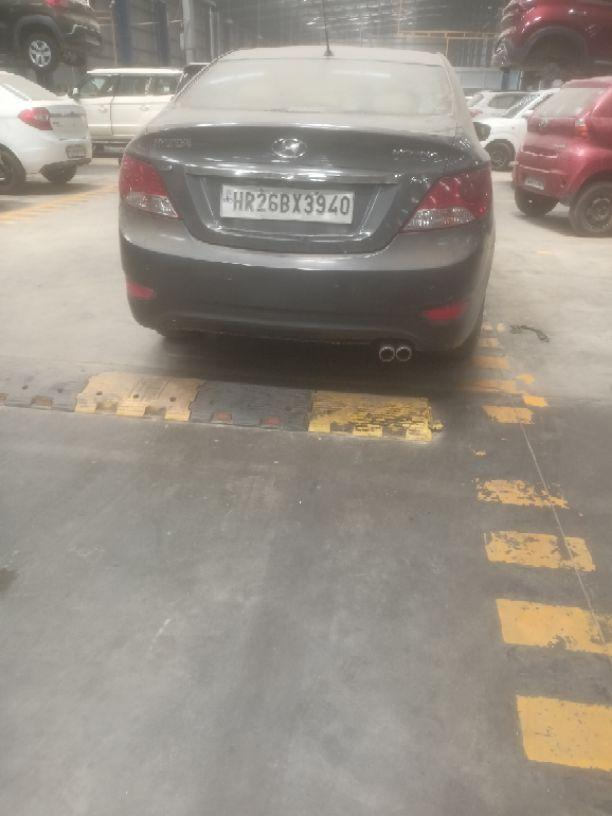license_plate: (217, 182, 355, 225)
